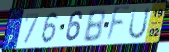6: (65, 10, 84, 44), (40, 11, 59, 45)
7: (23, 12, 40, 46)
B: (81, 8, 106, 43)
F: (104, 5, 132, 45)
U: (127, 6, 152, 41)
